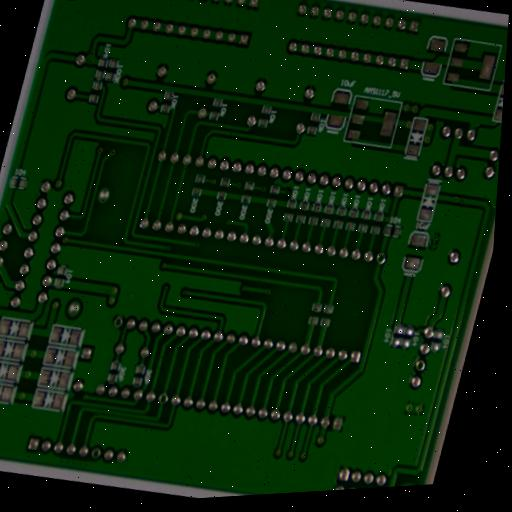missing_hole: (411, 356, 429, 375), (110, 312, 127, 332), (155, 390, 171, 408), (373, 250, 389, 267), (88, 445, 104, 462)
